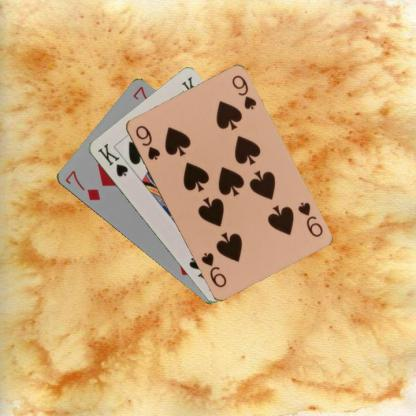7d: (62, 168, 102, 202)
9s: (295, 199, 324, 239), (132, 123, 162, 161)
Ks: (95, 140, 129, 178)
